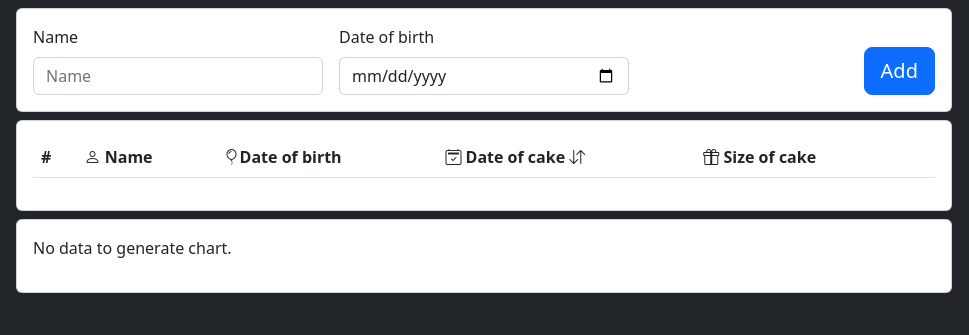
it: HomeView › should not be able to add a new user
In the field with placeholder "Name": (178, 76) [33,57,323,95], type "Jane Doe"
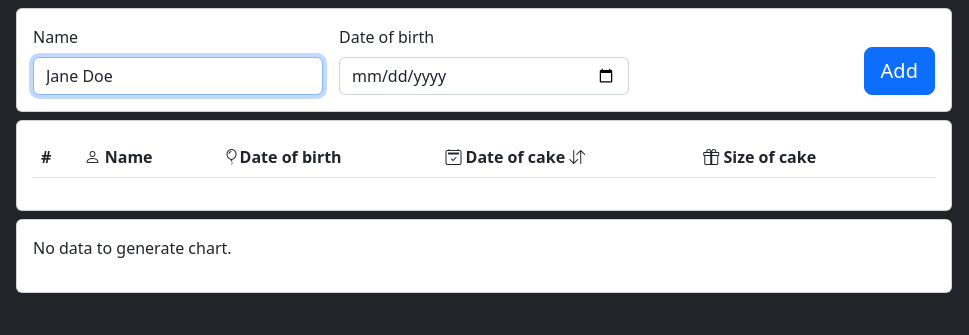
Click the button with test id "form-btn": (900, 71) [864,47,935,95]
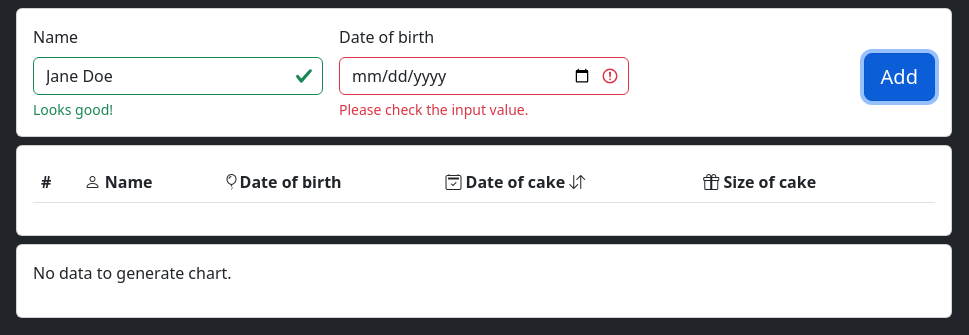
Check: the text "No data to generate chart" is shown, box [33,262,232,284]
Check: the text "Please check the input value" is shown, box [339,100,529,119]
